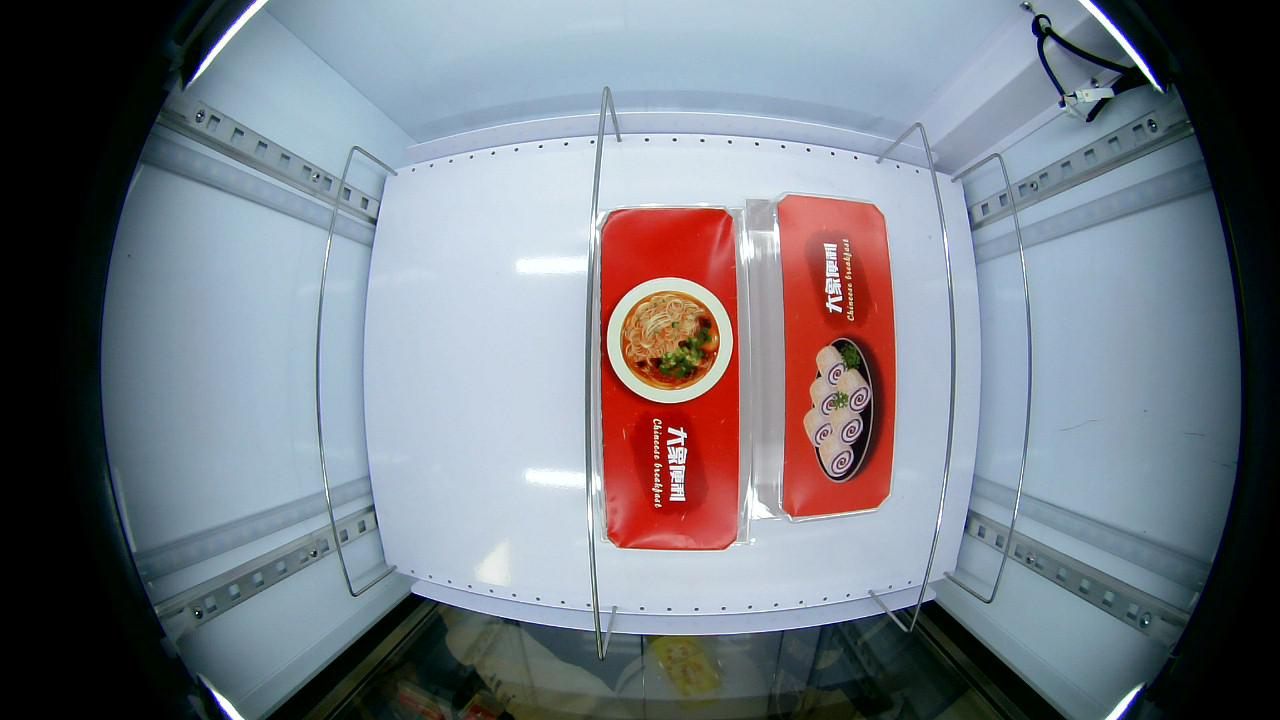goods: (608, 275, 738, 407), (792, 333, 877, 483)
